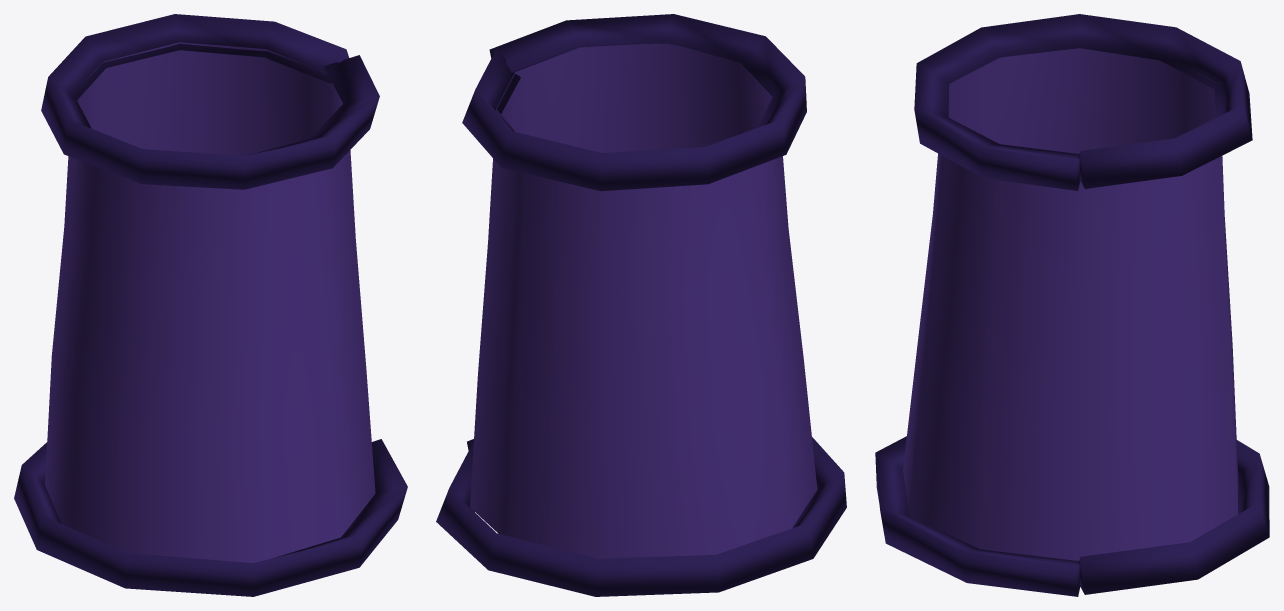
File: beetle_armor_bracer.L.glb
3 renders of one model, left to right at view 1: azimuth 30°, elevation 25°; view 2: azimuth 150°, elevation 25°; view 3: azimuth 270°, elevation 25°, orthographic. The views are drawn at different scales.
Visible parts, largest first — view 1: beetle_armor_bracer.L; view 2: beetle_armor_bracer.L; view 3: beetle_armor_bracer.L.
Boxes of the visible parts, x1,y1,x2,y2 form: beetle_armor_bracer.L: [14, 14, 407, 596]; beetle_armor_bracer.L: [436, 14, 846, 596]; beetle_armor_bracer.L: [875, 14, 1269, 596].
Bounding box in the file's own units: 0.144 × 0.1719 × 0.1414.
